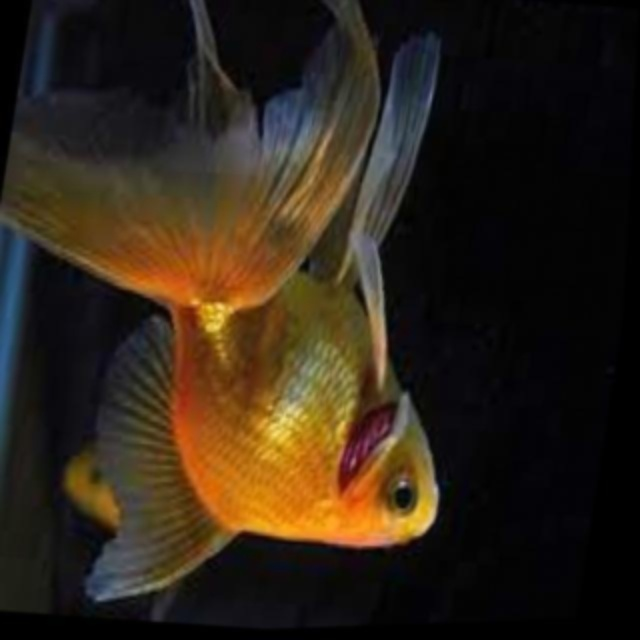Gill Disease: (244, 363, 496, 565)
